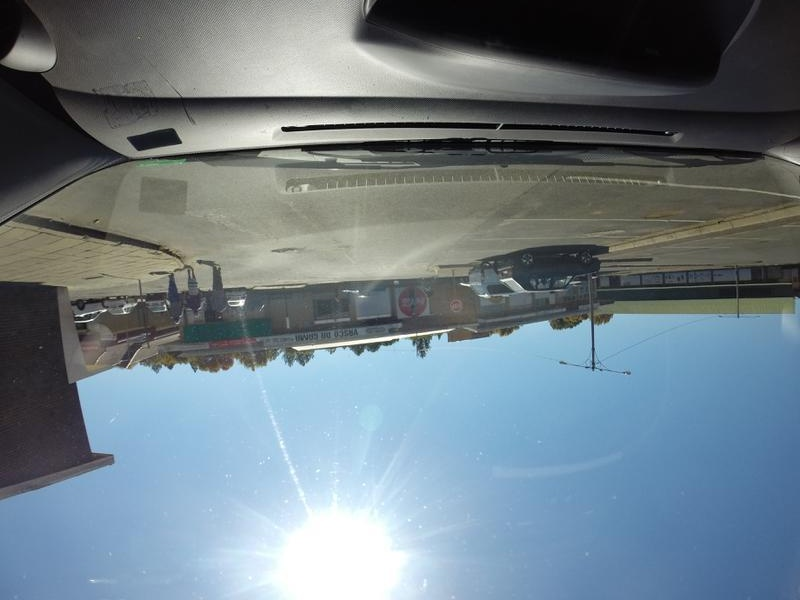pothole: (262, 240, 319, 259), (646, 202, 680, 224)
